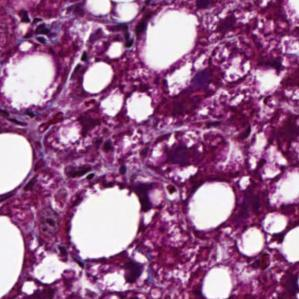inflammation: (13, 3, 61, 50), (149, 133, 203, 174), (178, 63, 231, 97), (58, 159, 102, 190), (114, 255, 151, 287)
